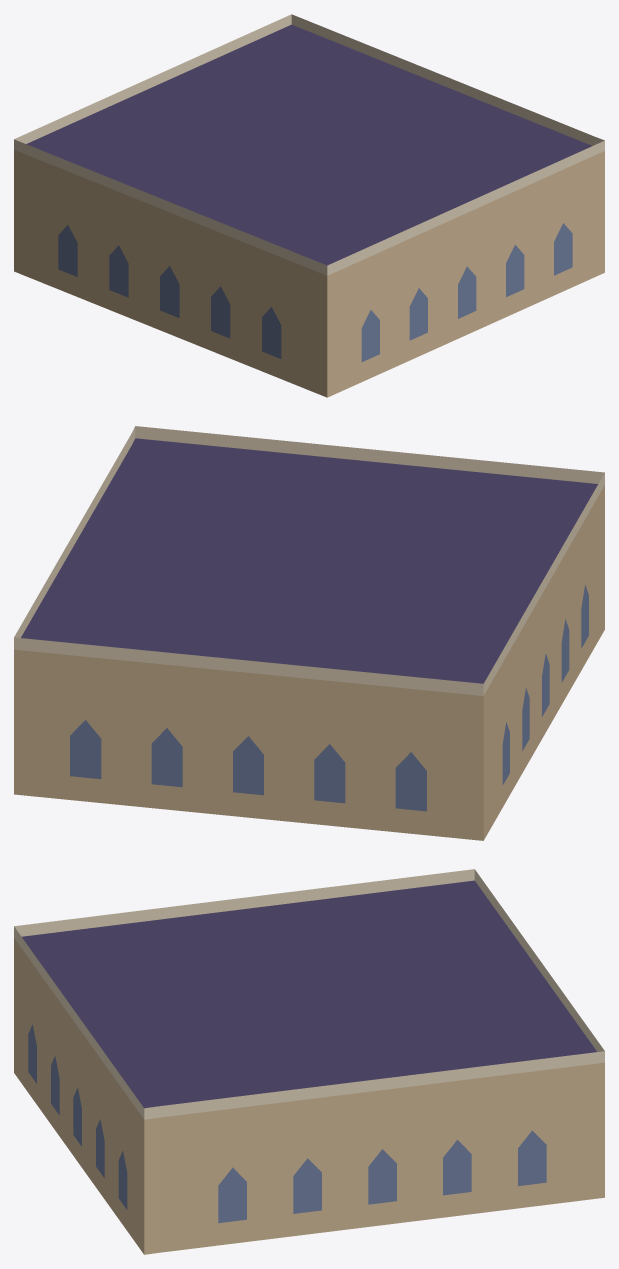
Rendered from b-108-day.glb.
3 renders of one model, top to bottom at view 1: azimuth 30°, elevation 25°; view 2: azimuth 150°, elevation 25°; view 3: azimuth 270°, elevation 25°, orthographic. The views are drawn at different scales.
Parts seen in each view (by area): view 1: campus/b-108-day-0; view 2: campus/b-108-day-0; view 3: campus/b-108-day-0.
Part boxes in pixels (x1=…): campus/b-108-day-0: x1=14, y1=14, x2=604, y2=397; campus/b-108-day-0: x1=14, y1=426, x2=604, y2=840; campus/b-108-day-0: x1=14, y1=869, x2=604, y2=1254.
Size of the model in its own units: 24.67 by 7.05 by 25.76.
